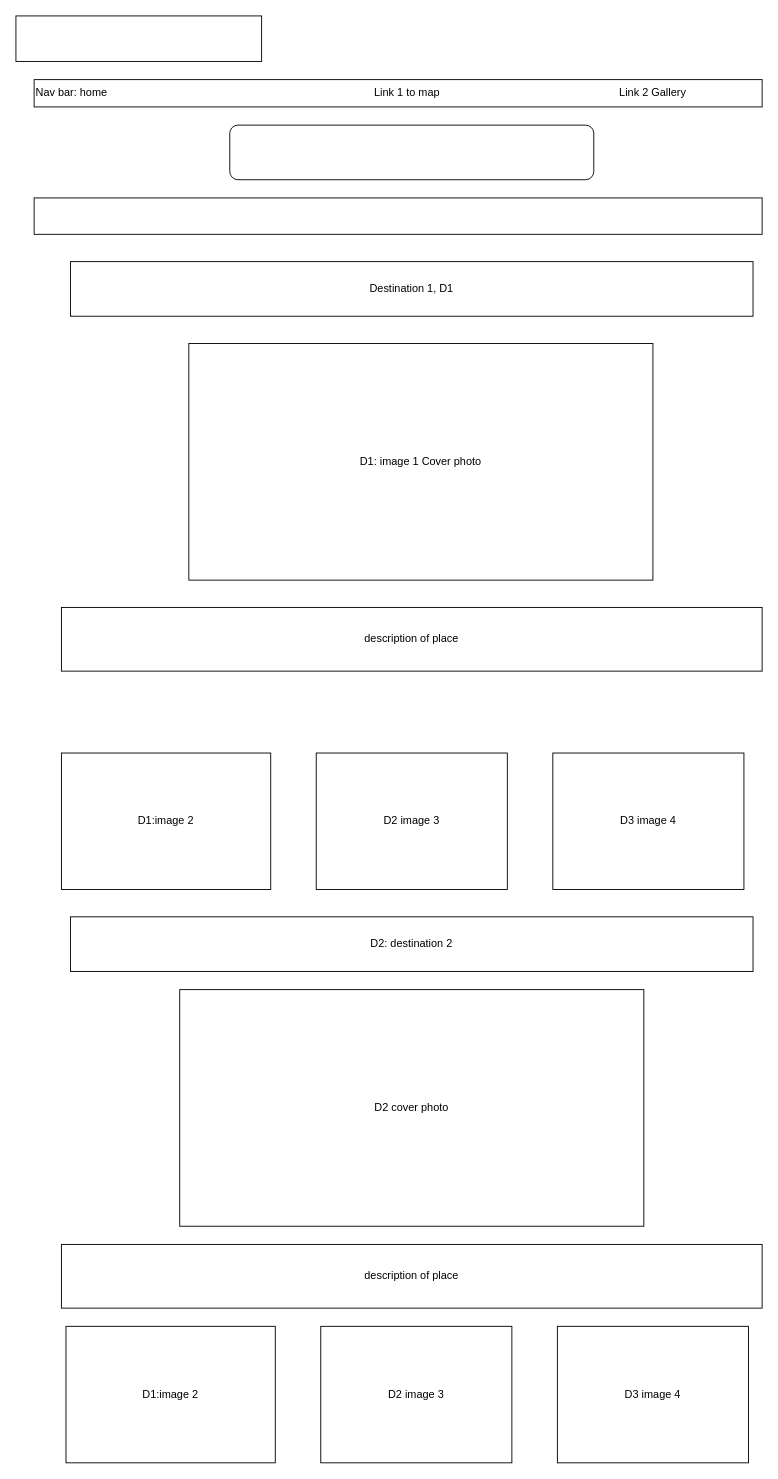
Image size: 778x1479. Some labels were removed from this diagram. The centre of each missing label's shape, as x and y in pixels:
Gallery: [411,152]
Header 1 Homepage: [138,38]
secondary nav bar for jump to/scroll to: [397,215]
